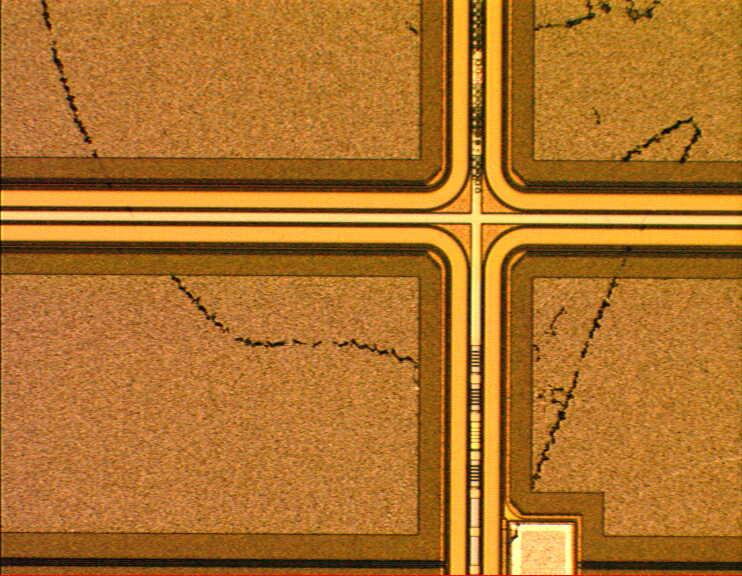SCRATCH: (29, 1, 713, 576)
